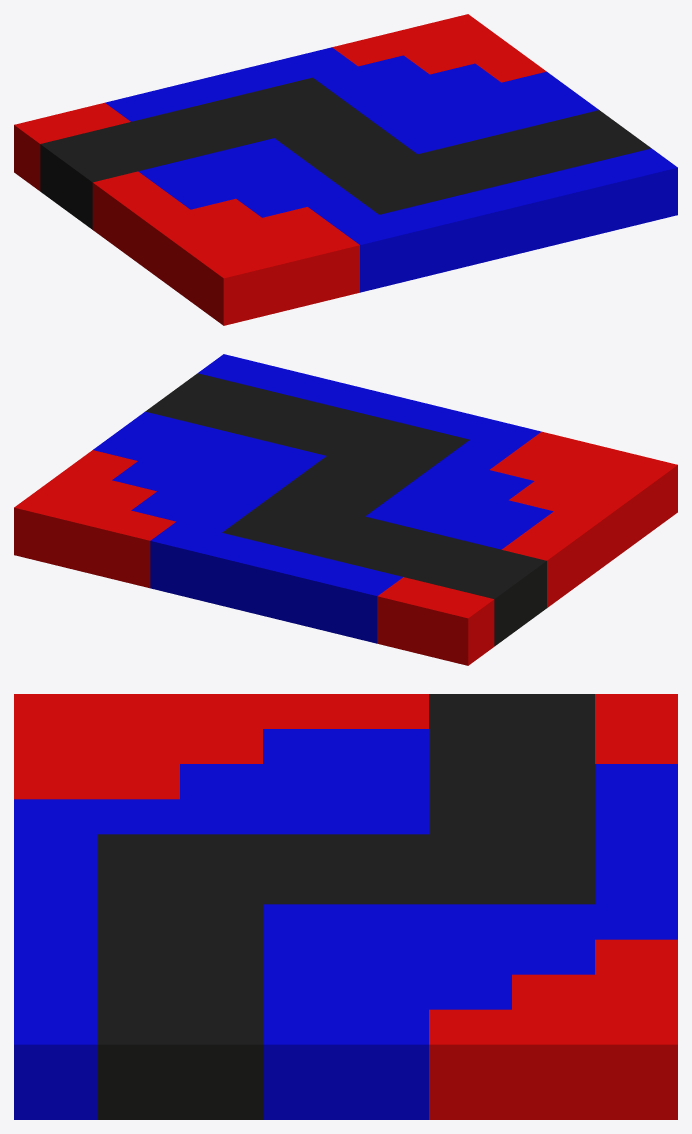
Rendered from Tutorial.fbx.
3 renders of one model, top to bottom at view 1: azimuth 30°, elevation 25°; view 2: azimuth 150°, elevation 25°; view 3: azimuth 270°, elevation 25°, orthographic. The views are drawn at different scales.
Visible parts, largest first — view 1: Cube_13, Cube_31, Cube_7, Cube_9, Cube_27, Cube_46, Cube_28, Cube_41, Cube_50, Cube_30, Cube_61, Cube_12 (+68 smaller); view 2: Cube_14, Cube_36, Cube_2, Cube_10, Cube_39, Cube_40, Cube, Cube_5, Cube_38, Cube_37, Cube_15, Cube_12 (+68 smaller); view 3: Cube_3, Cube_4, Cube_5, Cube_50, Cube_51, Cube_52, Cube_71, Cube_80, Cube, Cube_1, Cube_2, Cube_6 (+68 smaller).
Boxes of the visible parts, x1,y1,x2,y2 form: Cube_13: (197,248,269,325); Cube_31: (470,181,541,259); Cube_7: (289,226,359,303); Cube_9: (243,237,314,314); Cube_27: (334,215,405,292); Cube_46: (561,159,632,237); Cube_28: (380,204,450,281); Cube_41: (516,170,586,248); Cube_50: (606,148,677,225); Cube_30: (425,193,496,270); Cube_61: (66,152,137,229); Cube_12: (171,229,242,306); Cube_14: (422,588,494,665); Cube_36: (150,521,221,599); Cube_2: (59,499,130,577); Cube_10: (377,577,448,654); Cube_39: (286,555,357,632); Cube_40: (332,566,402,643); Cube: (105,510,175,588); Cube_5: (14,488,85,565); Cube_38: (241,544,311,621); Cube_37: (195,533,266,610); Cube_15: (554,492,625,569); Cube_12: (580,473,651,550); Cube_3: (429,1009,511,1119); Cube_4: (512,1009,594,1119); Cube_5: (595,1009,677,1119); Cube_50: (14,1009,96,1119); Cube_51: (263,1009,345,1119); Cube_52: (346,1009,428,1119); Cube_71: (97,1009,179,1119); Cube_80: (180,1009,262,1119); Cube: (595,939,677,974); Cube_1: (512,974,594,1009); Cube_2: (595,974,677,1009); Cube_6: (97,764,179,799).
Bounding box in the file's own units: 1000 × 100 × 800.
